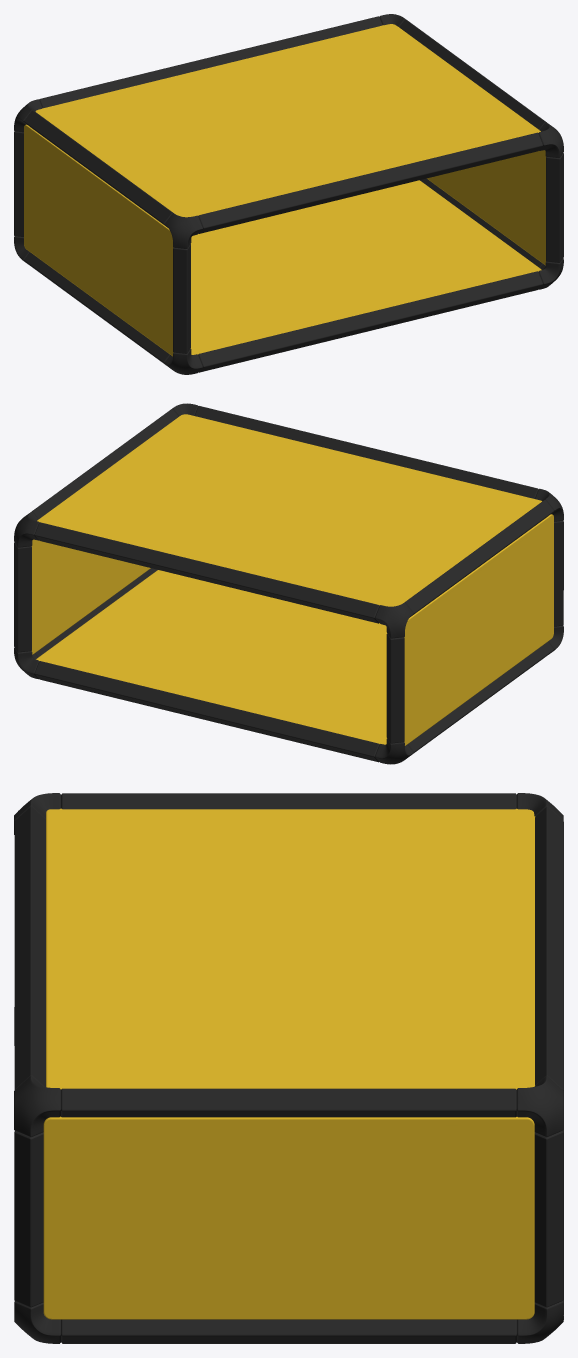
3 renders of one model, top to bottom at view 1: azimuth 30°, elevation 25°; view 2: azimuth 150°, elevation 25°; view 3: azimuth 270°, elevation 25°, orthographic. The views are drawn at different scales.
Visible parts, largest first — view 1: 523x374x154; view 2: 523x374x154; view 3: 523x374x154.
Part boxes in pixels (x1,y1,x2,y2): 523x374x154: [14, 14, 563, 374]; 523x374x154: [14, 403, 563, 764]; 523x374x154: [14, 793, 563, 1343].
Size of the model in its own units: 0.6007 by 0.2316 by 0.4513.
